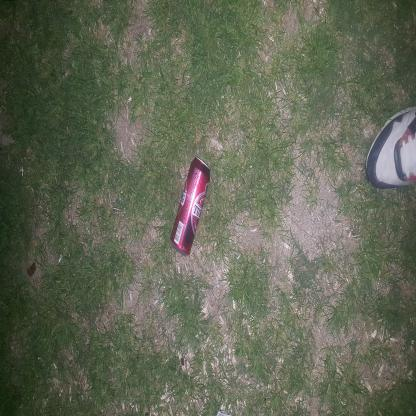trash: (86, 295, 155, 380)
